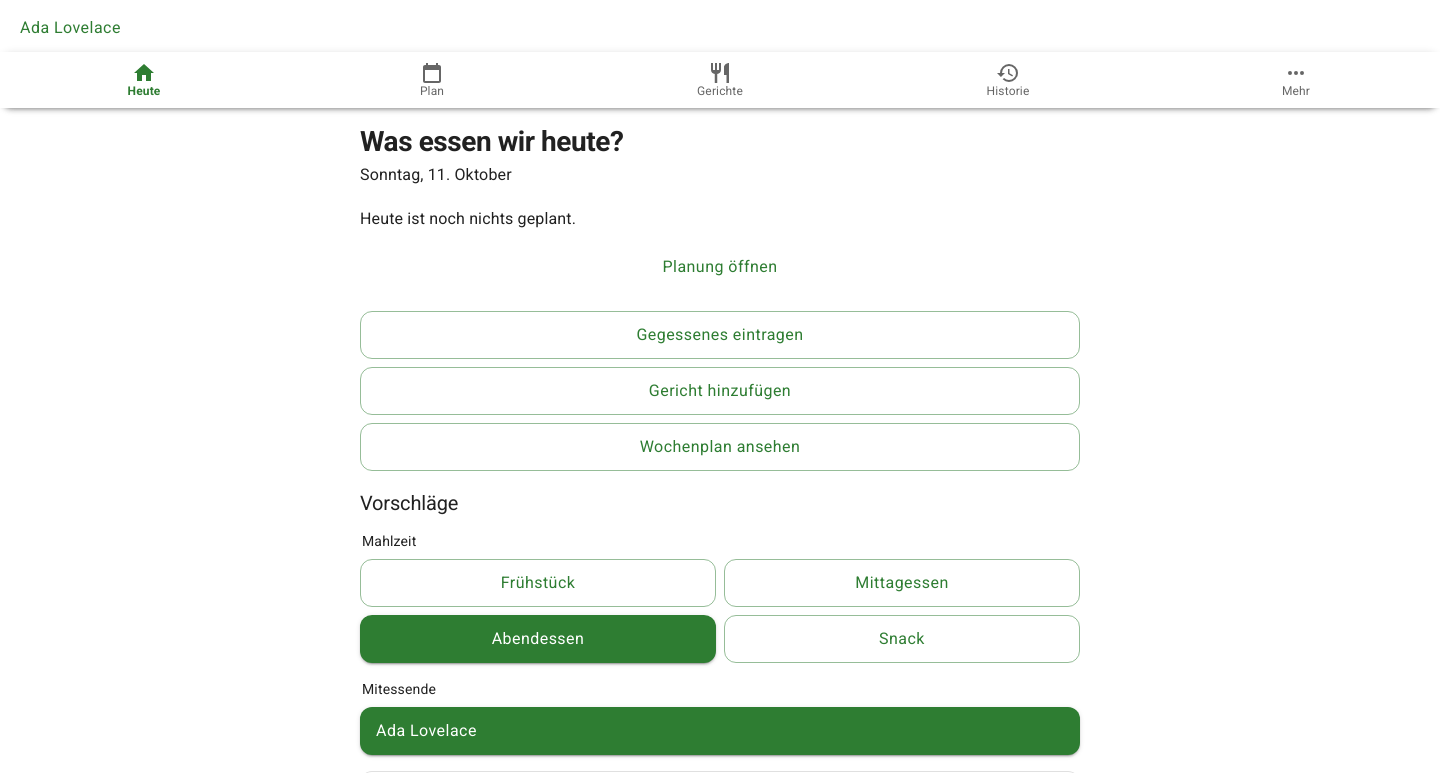
Test: zeigt eine verständliche Meldung, wenn das Backend nicht erreichbar ist
The image size is (1440, 773).
Click the link "Mehr": (1296,80) [1282,61,1310,98]
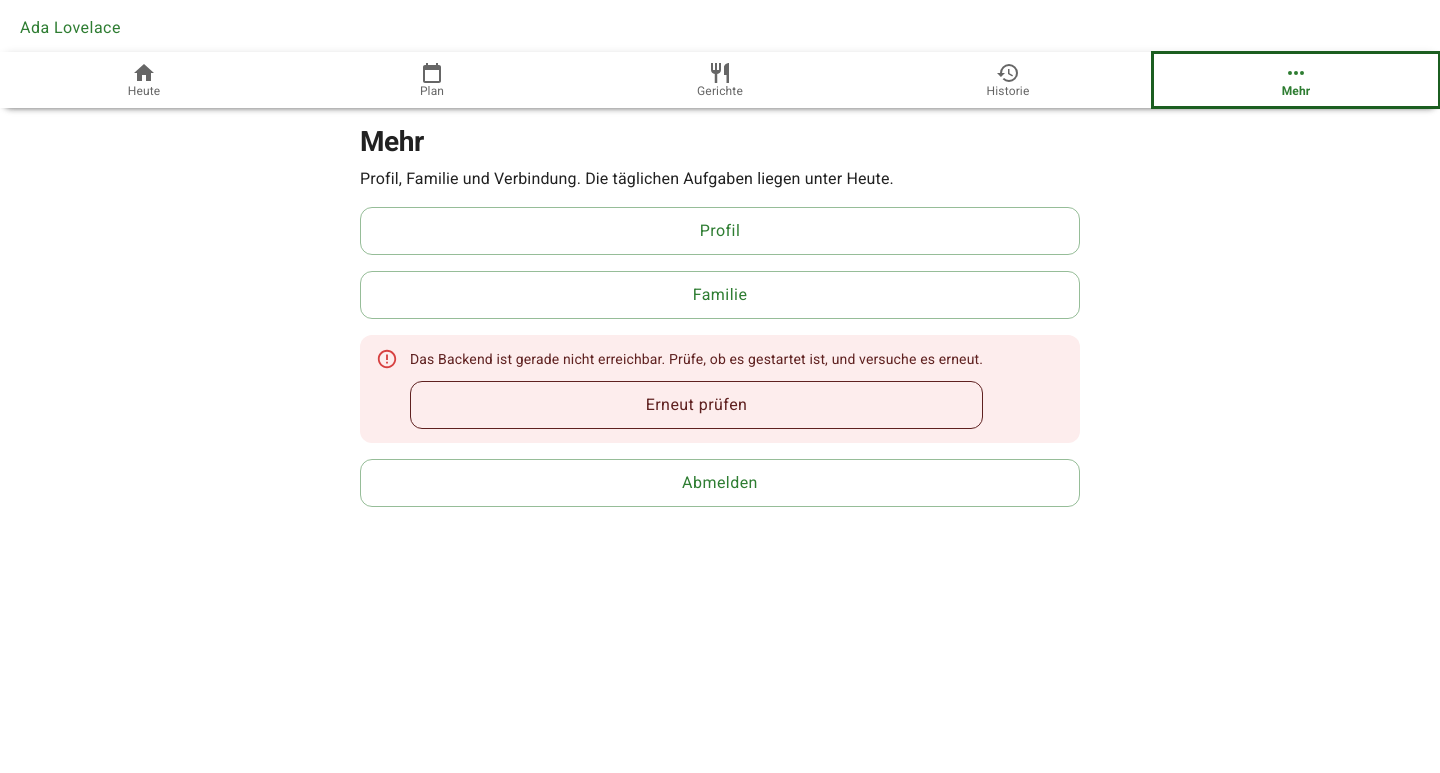
Check: the message shows "Das Backend ist gerade nicht erreichbar", box [410,351,983,367]
